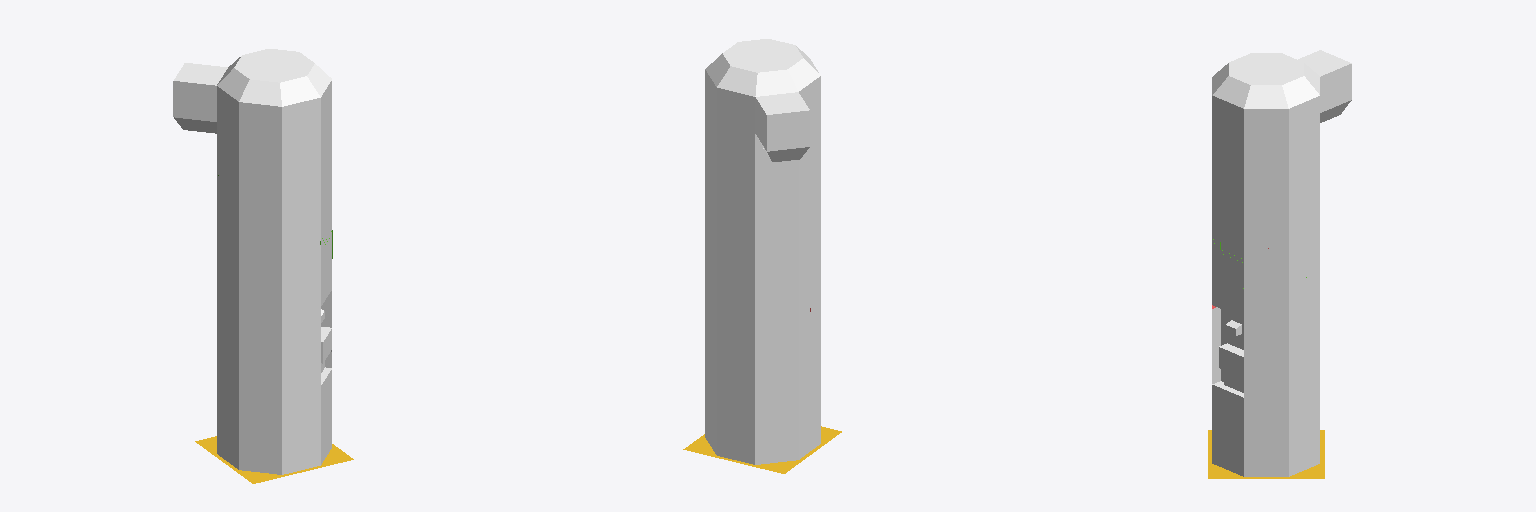
File: Tick Tock Clock Area 1.obj
The picture shows the model from 3 angles: view 1: azimuth 30°, elevation 25°; view 2: azimuth 150°, elevation 25°; view 3: azimuth 270°, elevation 25°; orthographic projection.
Bounding box in the file's own units: 11106 × 32766 × 11106.